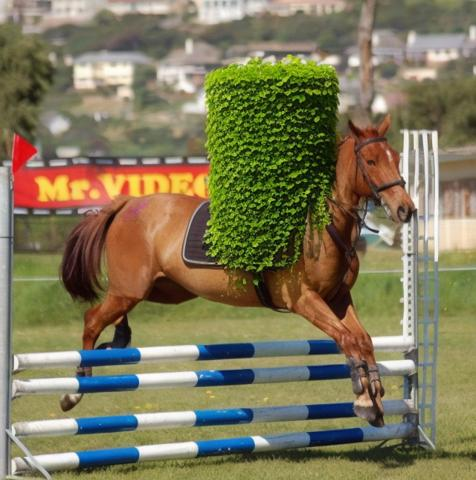horse: (57, 109, 418, 433)
pottedplant: (204, 50, 339, 301)
